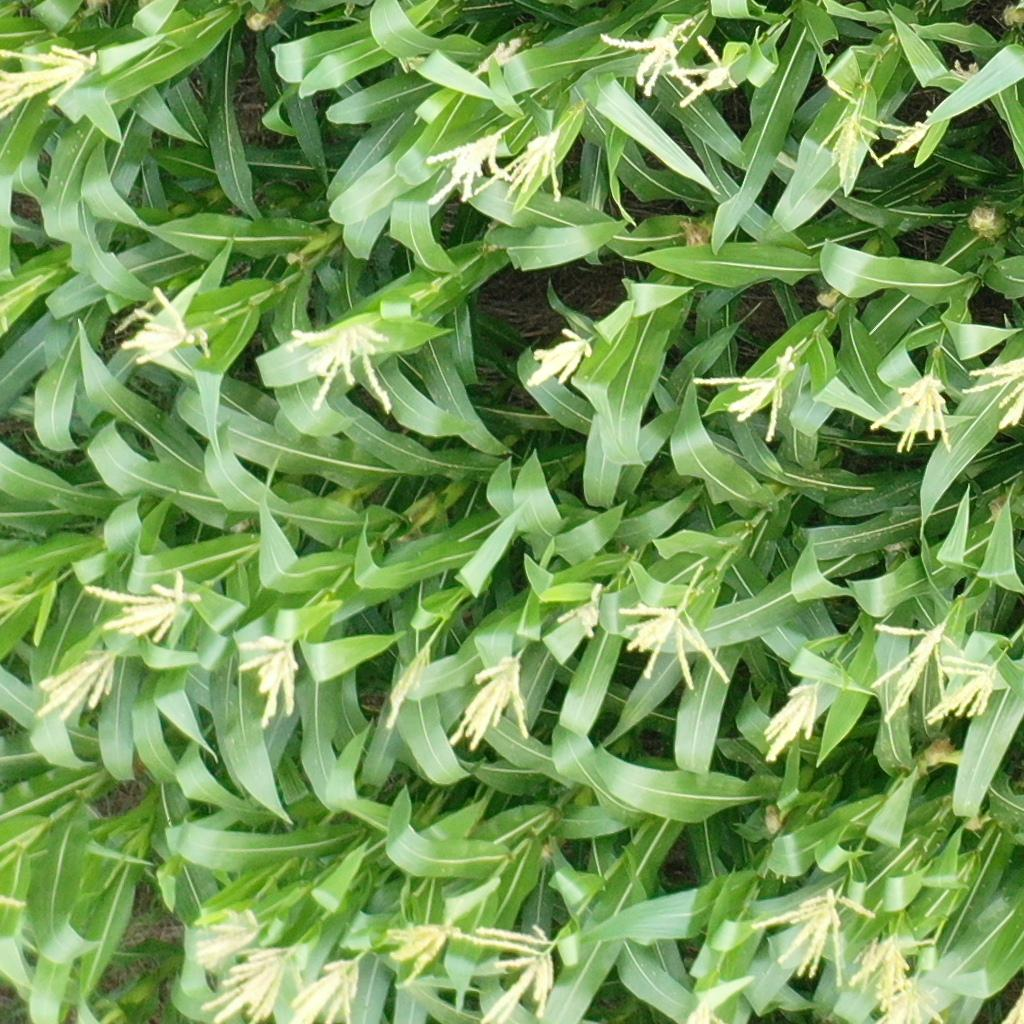Tassel: (617, 564, 731, 690), (748, 890, 880, 987), (285, 320, 399, 419), (455, 923, 561, 1024), (691, 345, 799, 443), (872, 616, 965, 725), (200, 941, 312, 1024), (447, 648, 535, 752), (117, 281, 217, 371), (82, 569, 203, 643), (815, 76, 886, 189), (596, 18, 698, 96), (425, 125, 515, 207), (1, 44, 96, 121), (866, 374, 956, 455), (476, 129, 567, 206), (230, 632, 301, 728), (923, 649, 1006, 728), (848, 928, 934, 999), (34, 649, 123, 717), (288, 947, 364, 1024), (761, 679, 822, 764), (383, 637, 437, 730), (193, 907, 270, 970), (668, 36, 736, 105), (381, 919, 450, 984), (963, 358, 1024, 430), (527, 326, 593, 388), (860, 119, 936, 168), (878, 975, 945, 1024), (557, 580, 604, 639), (474, 37, 526, 73), (682, 992, 725, 1024), (945, 56, 981, 84), (1, 593, 29, 629), (1000, 985, 1024, 1024), (397, 53, 428, 72)
